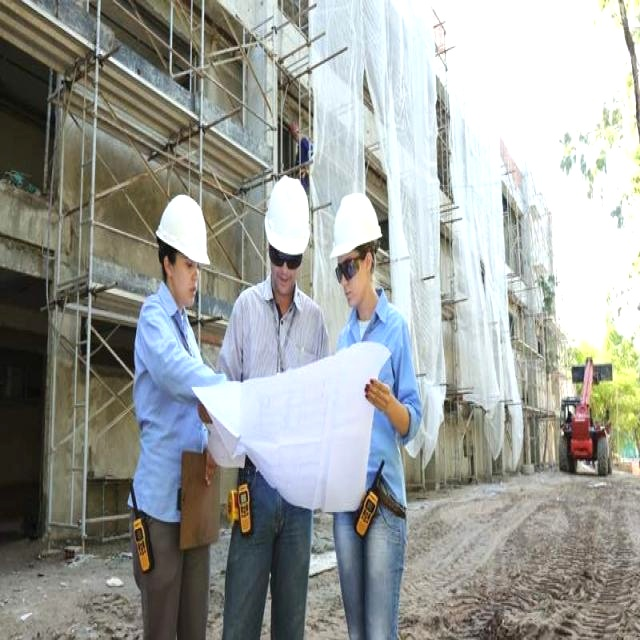Con_Casco: (332, 191, 387, 305), (264, 176, 311, 291), (158, 194, 208, 302)
